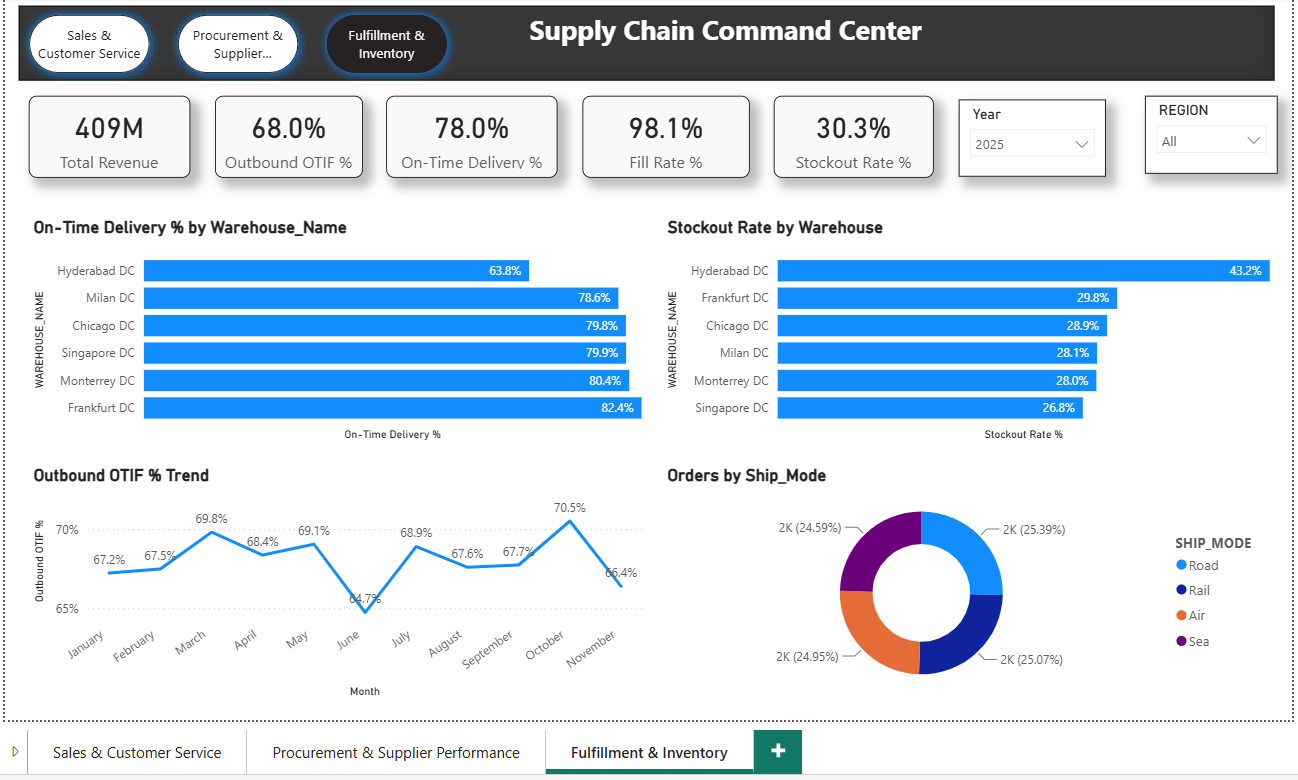

What the dashboard file says about the page in this screenshot:
{"tool":"powerbi","page":{"name":"Fulfillment & Inventory","canvas":[1280,720],"ordinal":2},"visuals":[{"type":"card","fields":{"Values":["FACT_SALES_ORDERS.Total Revenue"]},"box":[23.5,98.4,160.7,81.7],"z":0},{"type":"card","fields":{"Values":["FACT_SALES_ORDERS.Outbound OTIF %"]},"box":[208.5,98.4,146.8,81.7],"z":1000},{"type":"card","fields":{"Values":["FACT_SALES_ORDERS.On-Time Delivery %"]},"box":[379.6,98.4,170.4,81.7],"z":2000},{"type":"card","fields":{"Values":["FACT_SALES_ORDERS.Fill Rate %"]},"box":[574.2,98.4,166.2,81.7],"z":3000},{"type":"card","fields":{"Values":["FACT_INVENTORY.Stockout Rate %"]},"box":[764.7,98.4,159.3,81.7],"z":4000},{"type":"clusteredBarChart","title":"On-Time Delivery % by Warehouse_Name","fields":{"Category":["DIM_WAREHOUSE.WAREHOUSE_NAME"],"Y":["FACT_SALES_ORDERS.On-Time Delivery %"]},"box":[23.5,218.9,615.1,227.2],"z":5000},{"type":"clusteredBarChart","title":"Stockout Rate by Warehouse ","fields":{"Category":["DIM_WAREHOUSE.WAREHOUSE_NAME"],"Y":["FACT_INVENTORY.Stockout Rate %"]},"box":[653.9,218.9,609.5,227.2],"z":6000},{"type":"lineChart","title":"Outbound OTIF % Trend","fields":{"Category":["DIM_DATE.FULL_DATE.Variation.Date Hierarchy.Month"],"Y":["FACT_SALES_ORDERS.Outbound OTIF %"]},"box":[23.5,465.5,615.1,236.9],"z":7000},{"type":"donutChart","title":"Orders by Ship_Mode","fields":{"Category":["DIM_SHIP_MODE.SHIP_MODE"],"Y":["FACT_SALES_ORDERS.Sales Order Lines"]},"box":[653.9,465.5,609.5,236.9],"z":8000},{"type":"slicer","fields":{"Values":["DIM_DATE.FULL_DATE.Variation.Date Hierarchy.Year"]},"box":[949.5,102.5,146,77],"z":9000},{"type":"slicer","fields":{"Values":["DIM_WAREHOUSE.REGION"]},"box":[1134.5,98.4,131.6,77.6],"z":10000},{"type":"textbox","box":[13.9,8.3,1249.5,74],"z":11000},{"type":"pageNavigator","box":[15.2,8.3,435,76],"z":12000}]}

Visuals, with their boxes on the page's 1280x720 design canvas (x1, y1, x2, y2). These are canvas units, not pixel positions in the 1298x780 screenshot, which may show the page scaled, cropped or inside an application window:
card - FACT_SALES_ORDERS.Total Revenue: {"left": 24, "top": 98, "right": 184, "bottom": 180}
card - FACT_SALES_ORDERS.Outbound OTIF %: {"left": 208, "top": 98, "right": 355, "bottom": 180}
card - FACT_SALES_ORDERS.On-Time Delivery %: {"left": 380, "top": 98, "right": 550, "bottom": 180}
card - FACT_SALES_ORDERS.Fill Rate %: {"left": 574, "top": 98, "right": 740, "bottom": 180}
card - FACT_INVENTORY.Stockout Rate %: {"left": 765, "top": 98, "right": 924, "bottom": 180}
"On-Time Delivery % by Warehouse_Name" clusteredBarChart: {"left": 24, "top": 219, "right": 639, "bottom": 446}
"Stockout Rate by Warehouse " clusteredBarChart: {"left": 654, "top": 219, "right": 1263, "bottom": 446}
"Outbound OTIF % Trend" lineChart: {"left": 24, "top": 466, "right": 639, "bottom": 702}
"Orders by Ship_Mode" donutChart: {"left": 654, "top": 466, "right": 1263, "bottom": 702}
slicer - DIM_DATE.FULL_DATE.Variation.Date Hierarchy.Year: {"left": 950, "top": 102, "right": 1096, "bottom": 180}
slicer - DIM_WAREHOUSE.REGION: {"left": 1134, "top": 98, "right": 1266, "bottom": 176}
textbox: {"left": 14, "top": 8, "right": 1263, "bottom": 82}
pageNavigator: {"left": 15, "top": 8, "right": 450, "bottom": 84}
